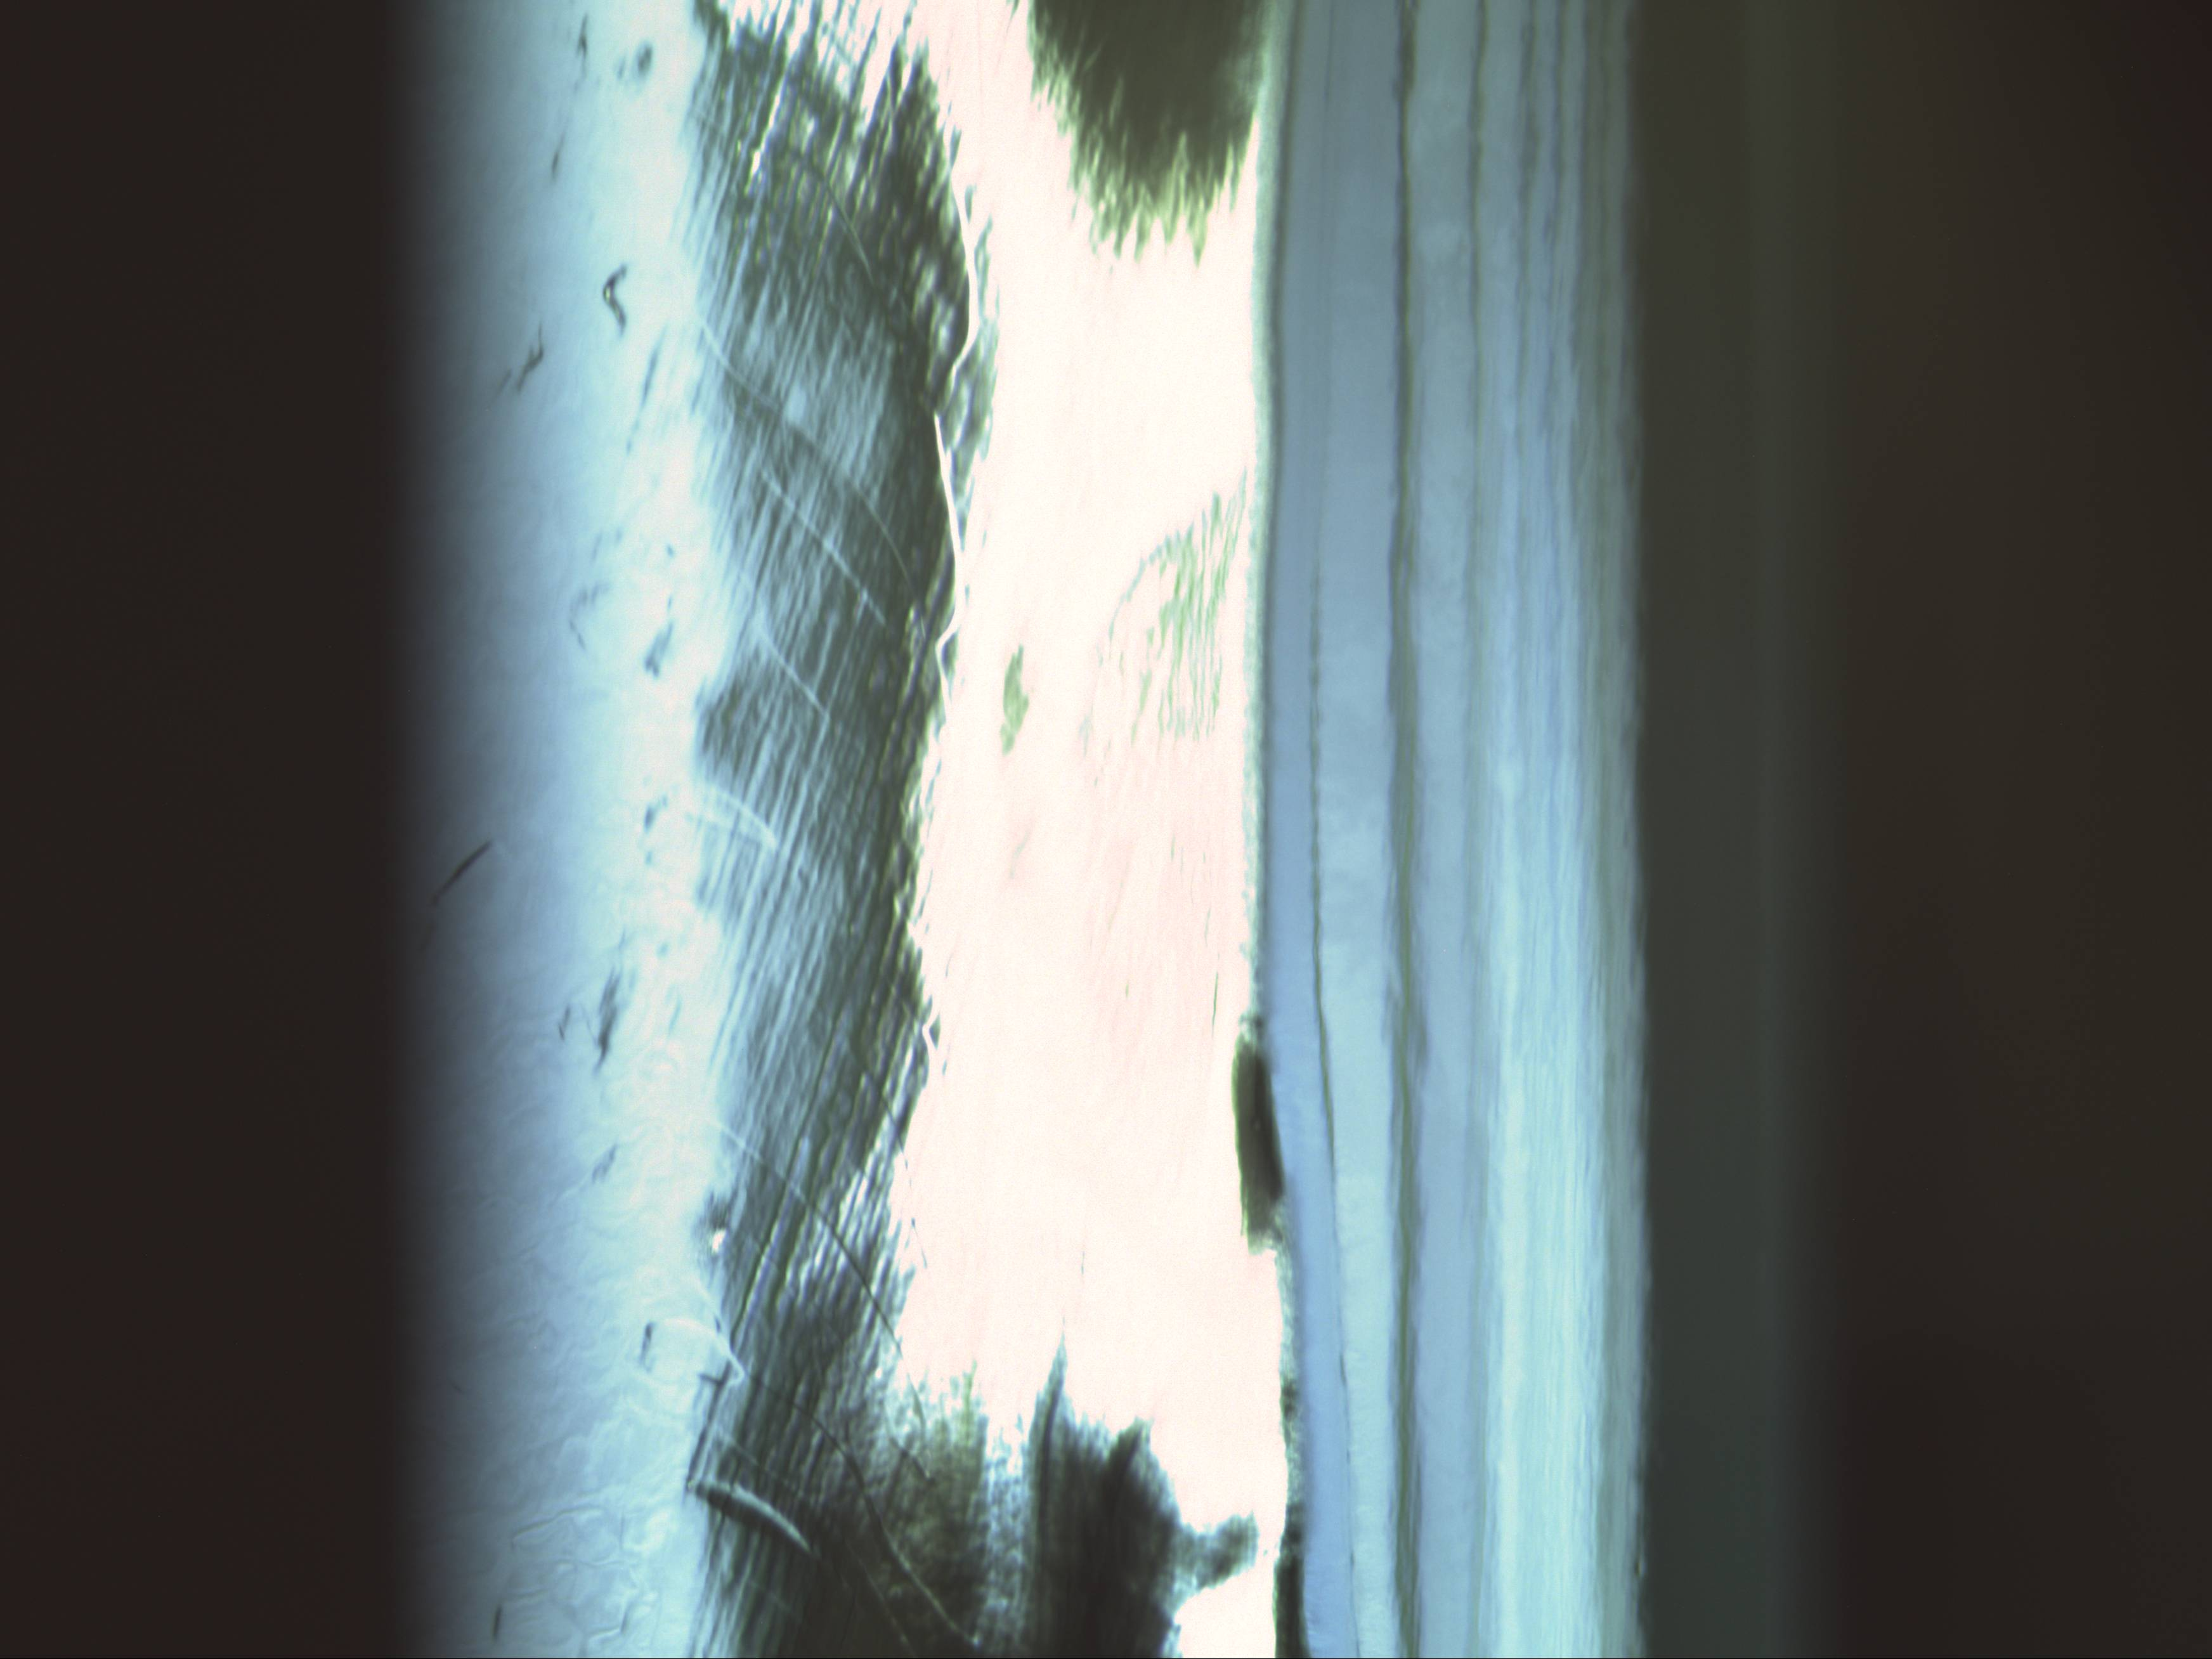defect: (705, 1208, 737, 1256)
